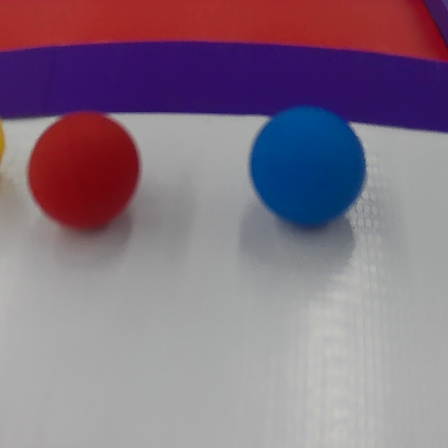blue: (244, 109, 370, 233)
red: (28, 114, 149, 235)
